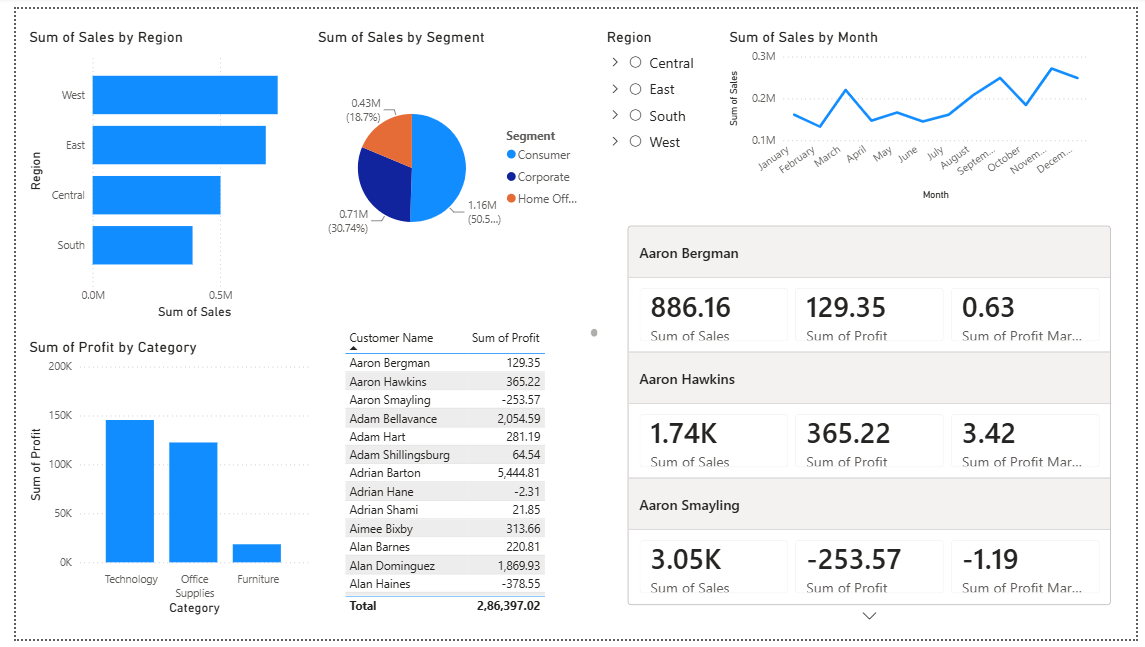

Layout of this report page (visuals, bound fields, positions):
{"tool":"powerbi","page":{"name":"Page 1","canvas":[1280,720],"ordinal":0},"visuals":[{"type":"clusteredBarChart","fields":{"Y":["Sum(Retails Order Full Dataset.Sales)"],"Category":["Retails Order Full Dataset.Region"]},"box":[10,21.7,330,338.3],"z":0},{"type":"clusteredColumnChart","fields":{"Y":["Sum(Retails Order Full Dataset.Profit)"],"Category":["Retails Order Full Dataset.Category"]},"box":[10,375,330,321.7],"z":1000},{"type":"lineChart","fields":{"Y":["Sum(Retails Order Full Dataset.Sales)"],"Category":["Retails Order Full Dataset.Order Date.Variation.Date Hierarchy.Month"]},"box":[810,21.7,420,201.7],"z":2000},{"type":"pieChart","fields":{"Category":["Retails Order Full Dataset.Segment"],"Y":["Sum(Retails Order Full Dataset.Sales)"]},"box":[340,21.7,318.3,301.7],"z":3000},{"type":"tableEx","fields":{"Values":["Retails Order Full Dataset.Customer Name","Sum(Retails Order Full Dataset.Profit)"]},"box":[370,360,300,336.7],"z":4000},{"type":"listSlicer","fields":{"Values":["Retails Order Full Dataset.Region","Retails Order Full Dataset.Category","Retails Order Full Dataset.Order Date","Retails Order Full Dataset.Segment"]},"box":[670,21.7,140,161.7],"z":5000},{"type":"cardVisual","fields":{"Data":["Sum(Retails Order Full Dataset.Sales)","Sum(Retails Order Full Dataset.Profit)","Sum(Retails Order Full Dataset.Profit Margin)"],"Rows":["Retails Order Full Dataset.Customer Name"]},"box":[694.3,222.9,562.9,485.7],"z":5001}]}

Visuals, with their boxes in screenshot pixels (x1, y1, x2, y2), scaled from the page's 1280x720 canvas onto the 1145x647 screenshot:
clusteredBarChart - Sum(Retails Order Full Dataset.Sales) x Retails Order Full Dataset.Region: (9,19,304,324)
clusteredColumnChart - Sum(Retails Order Full Dataset.Profit) x Retails Order Full Dataset.Category: (9,337,304,626)
lineChart - Sum(Retails Order Full Dataset.Sales) x Retails Order Full Dataset.Order Date.Variation.Date Hierarchy.Month: (725,19,1100,201)
pieChart - Retails Order Full Dataset.Segment x Sum(Retails Order Full Dataset.Sales): (304,19,589,291)
tableEx - Retails Order Full Dataset.Customer Name x Sum(Retails Order Full Dataset.Profit): (331,324,599,626)
listSlicer - Retails Order Full Dataset.Region x Retails Order Full Dataset.Category: (599,19,725,165)
cardVisual - Sum(Retails Order Full Dataset.Sales) x Sum(Retails Order Full Dataset.Profit): (621,200,1125,637)
